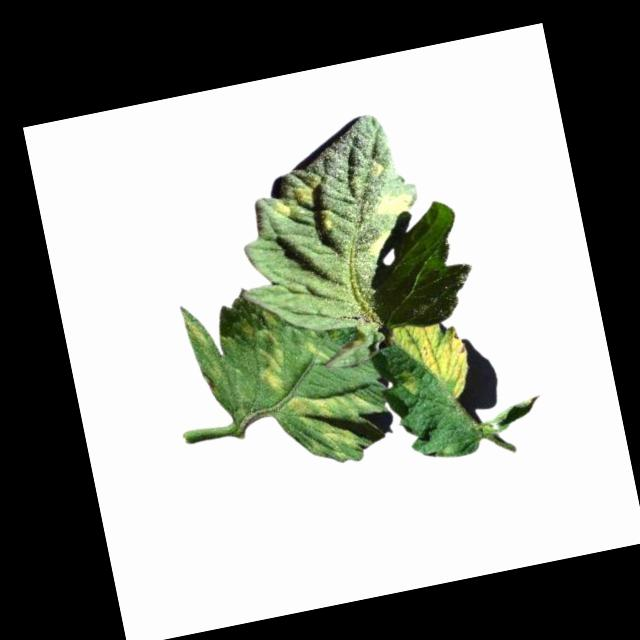Leaf_Mold: (391, 312, 476, 406), (283, 379, 380, 459), (250, 325, 295, 399), (368, 184, 416, 219), (293, 175, 325, 210), (272, 195, 293, 219)
